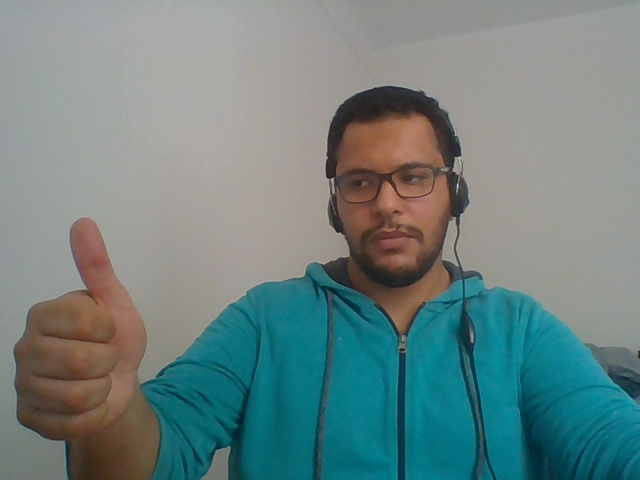ok: (4, 204, 167, 470)
